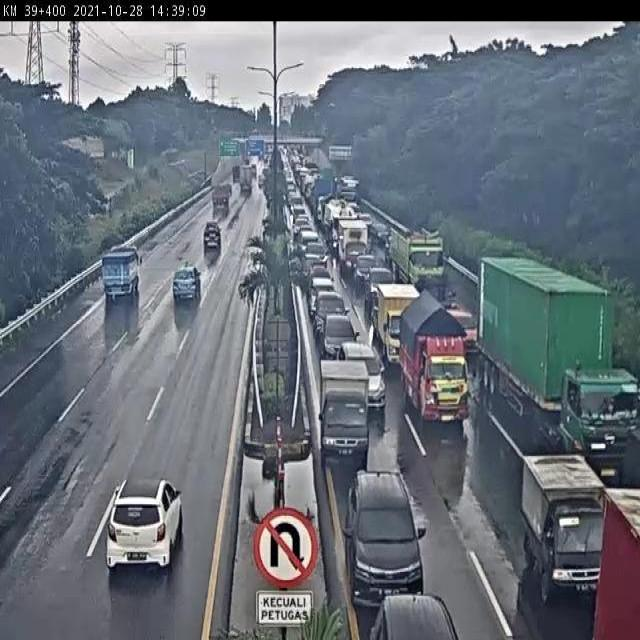big truck: (519, 283, 640, 472), (401, 233, 449, 291), (92, 242, 132, 310)
car: (93, 467, 196, 582), (348, 453, 420, 595), (321, 370, 379, 462), (439, 290, 482, 374), (321, 308, 359, 371), (163, 262, 202, 314), (313, 290, 354, 334), (192, 223, 225, 269), (366, 265, 391, 300), (311, 275, 339, 300)
small truck: (505, 437, 604, 584), (408, 307, 478, 436), (319, 360, 372, 463), (366, 280, 428, 364)
